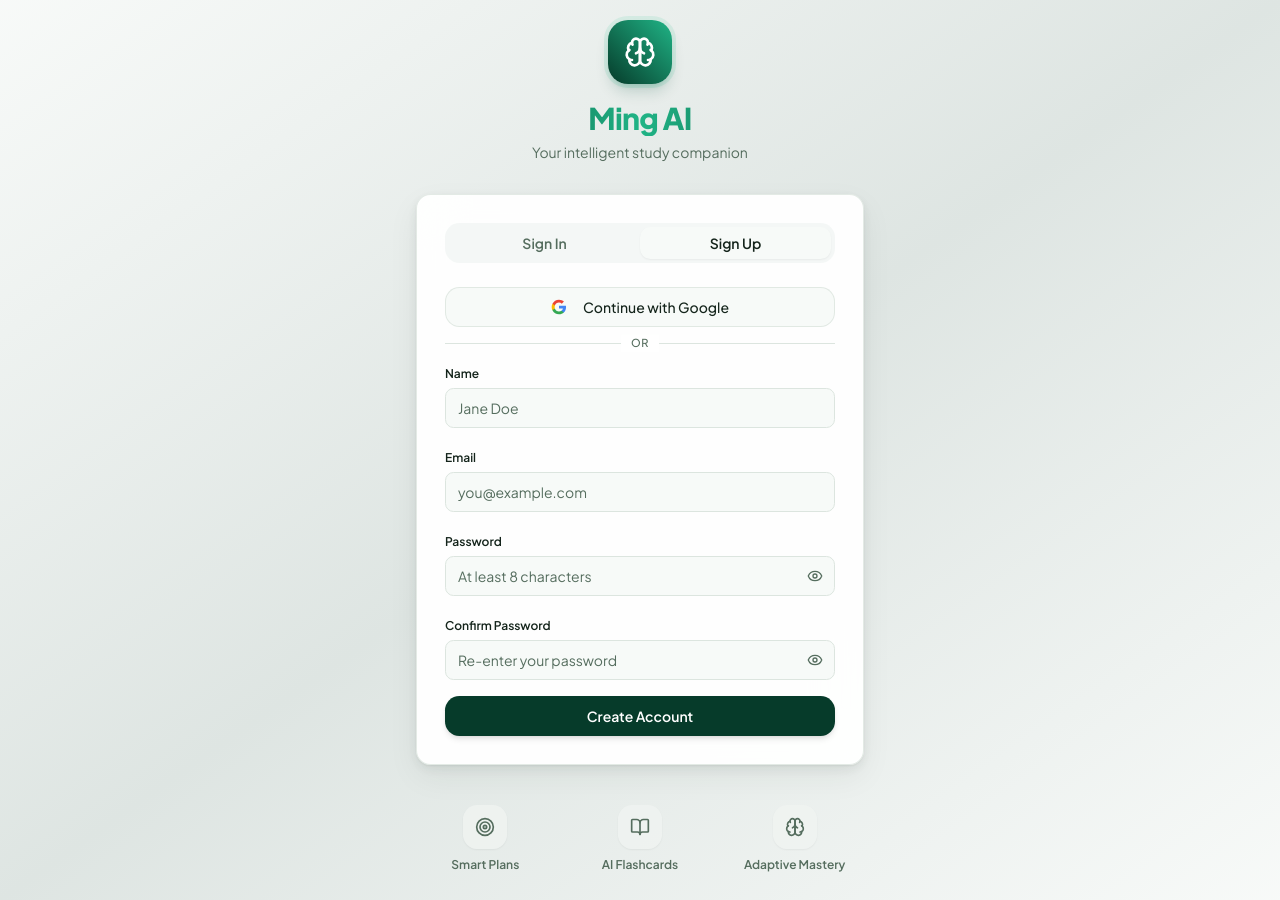
Test: Ming Production-Ready Authentication System › SignInPage UX & Separation of Flows › when email confirmation is ENABLED: shows clean email verification screen with Resend option
In the field with id "signup-name": coordinates (640, 408) x1=445 y1=388 x2=835 y2=428, type "Verify User"
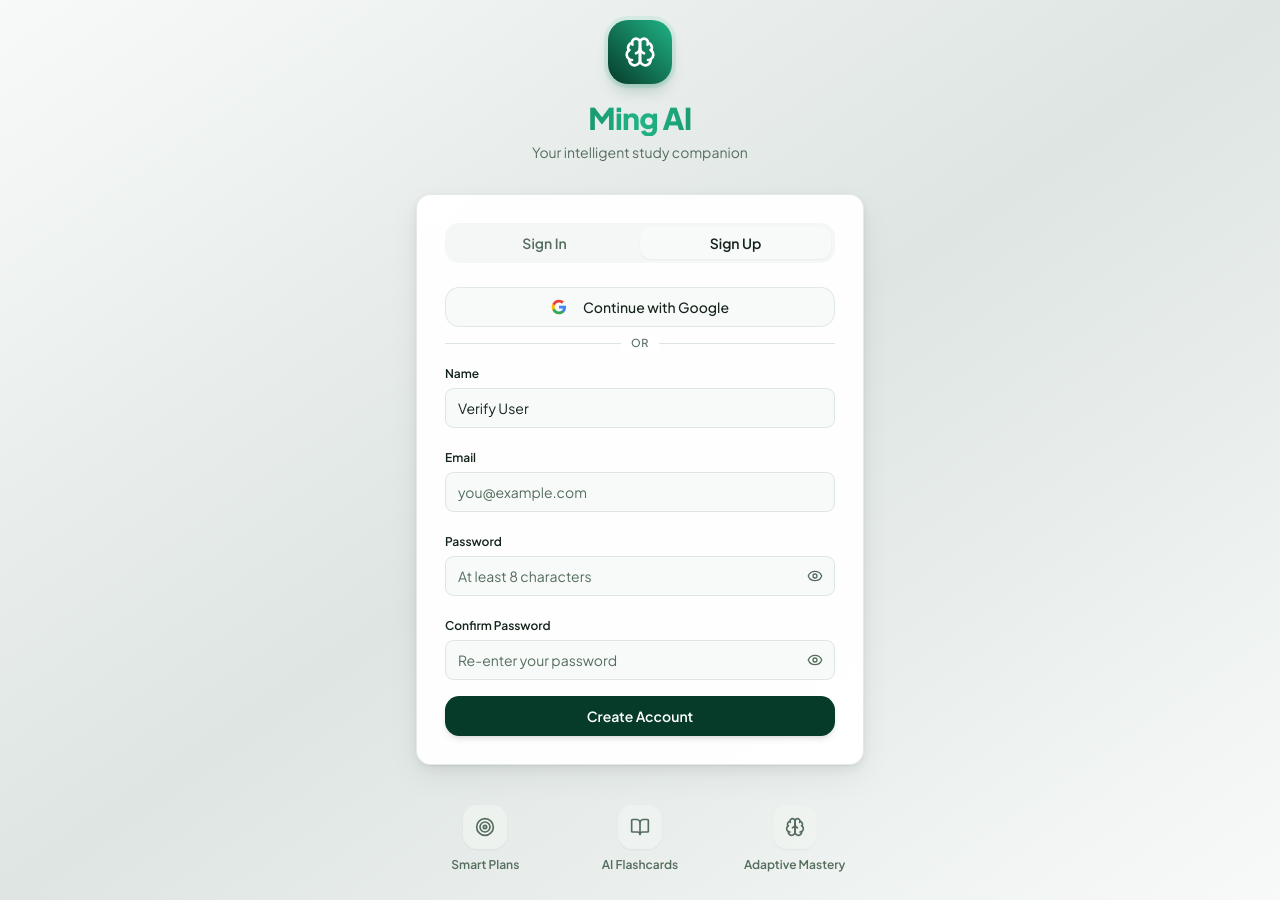
In the field with id "signup-email": coordinates (640, 492) x1=445 y1=472 x2=835 y2=512, type "verify-me@example.com"
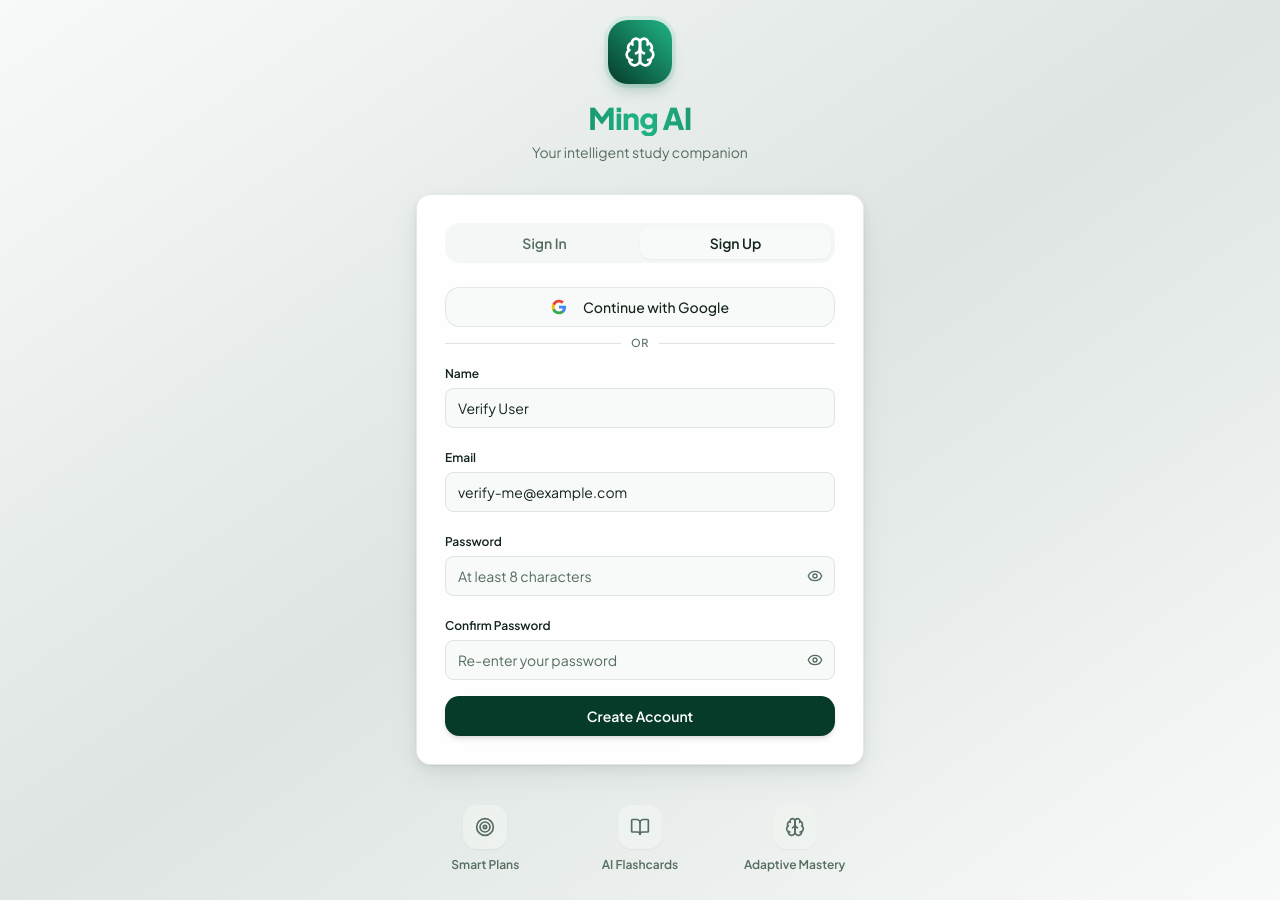
In the password field with id "signup-password": coordinates (640, 576) x1=445 y1=556 x2=835 y2=596, type "StrongPass123"
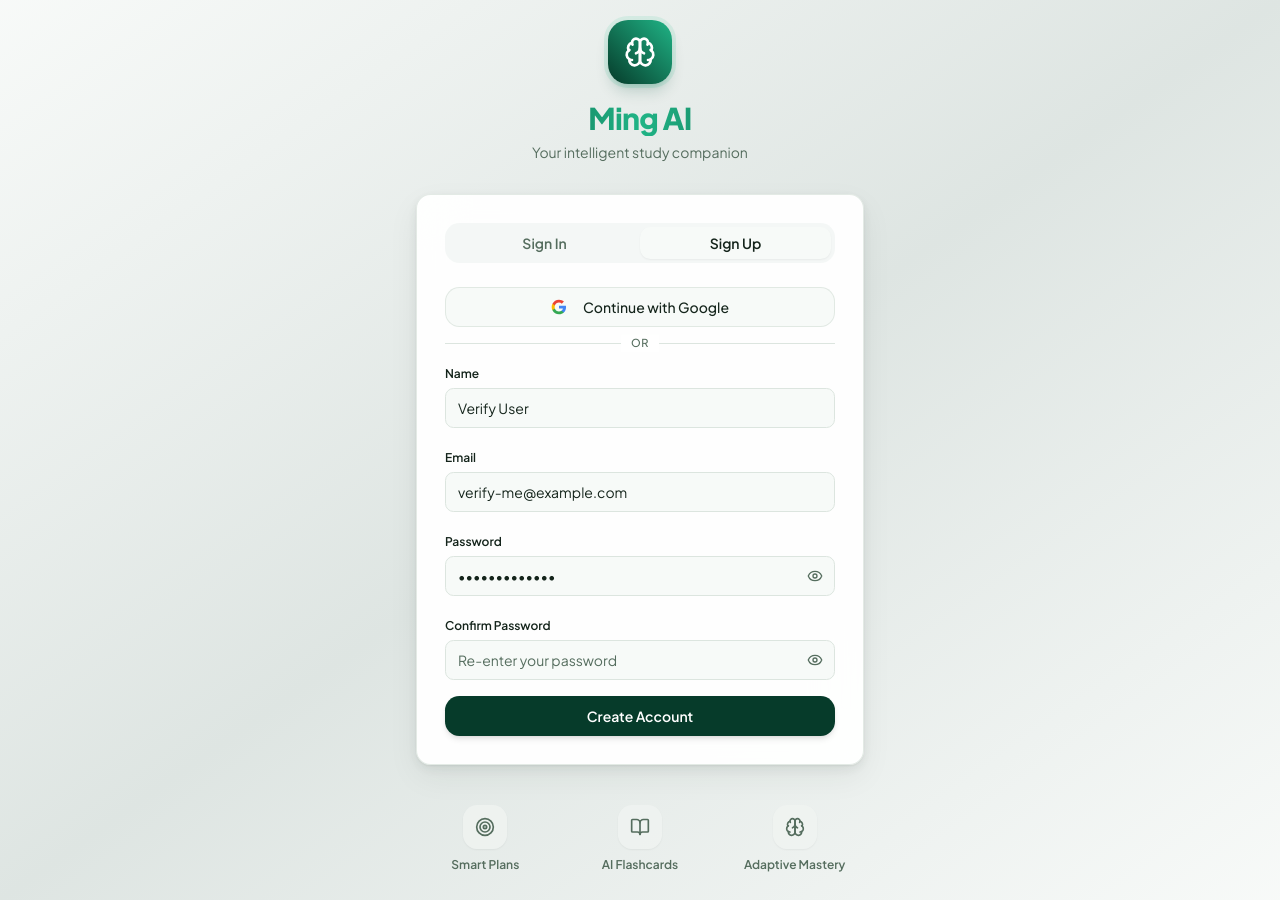
In the password field with id "signup-confirm-password": coordinates (640, 660) x1=445 y1=640 x2=835 y2=680, type "StrongPass123"
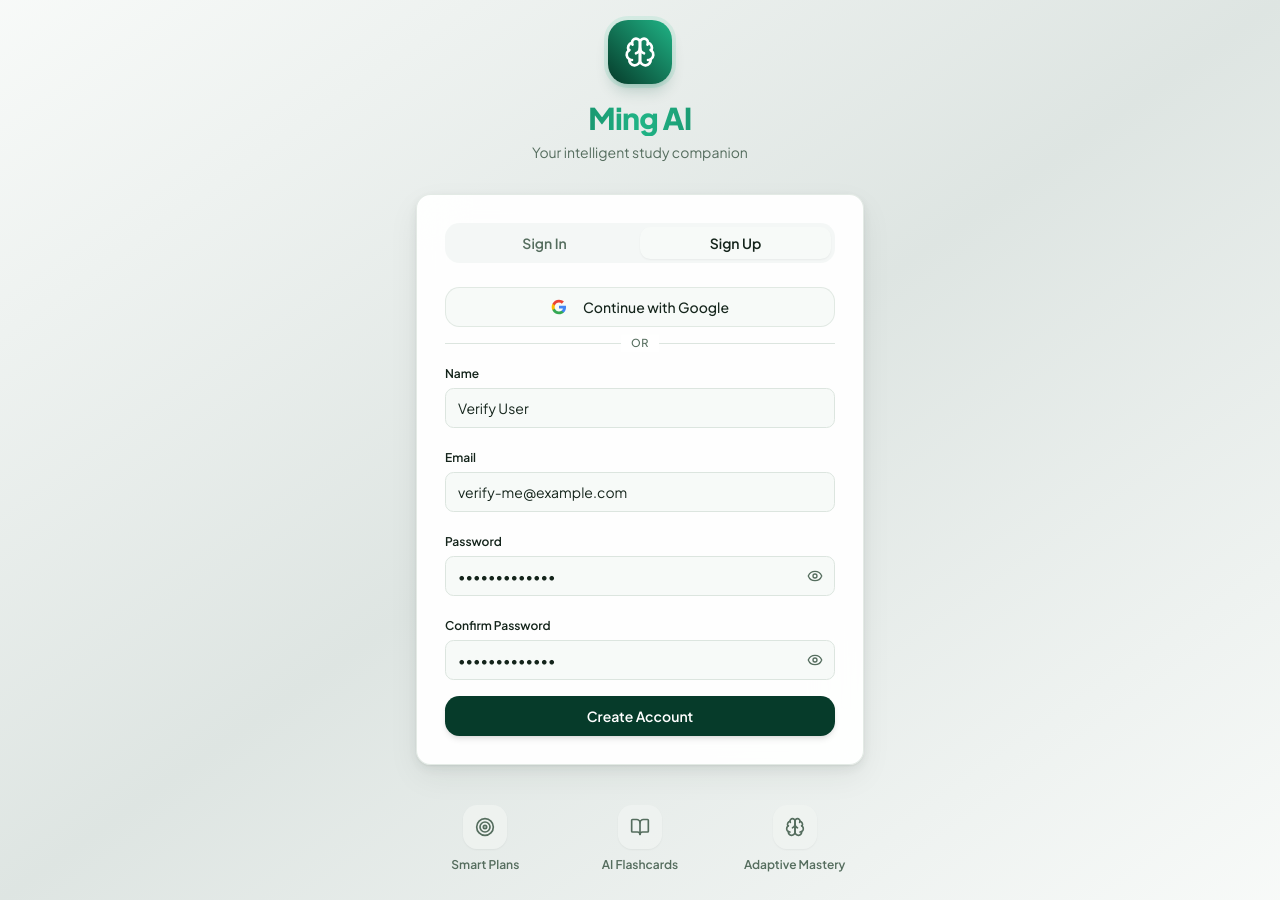
Click the button "Create Account": coordinates (640, 716) x1=445 y1=696 x2=835 y2=736
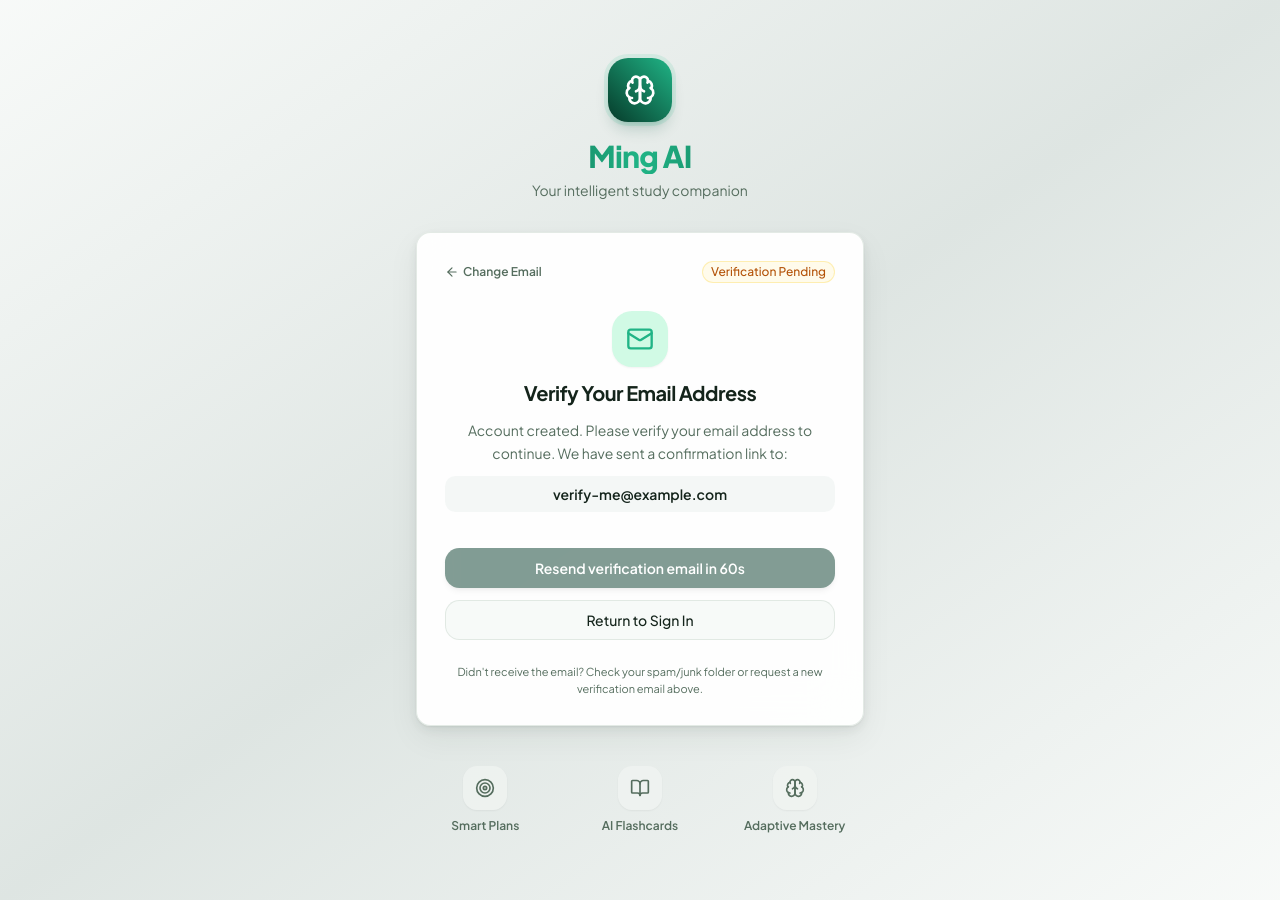
Expected: the heading "Verify Your Email Address" is shown, x1=524 y1=380 x2=756 y2=405
Expected: the text "verify-me@example.com" is shown, x1=445 y1=476 x2=835 y2=512
Expected: the button "Resend verification email in 60s" is shown, x1=445 y1=548 x2=835 y2=588
